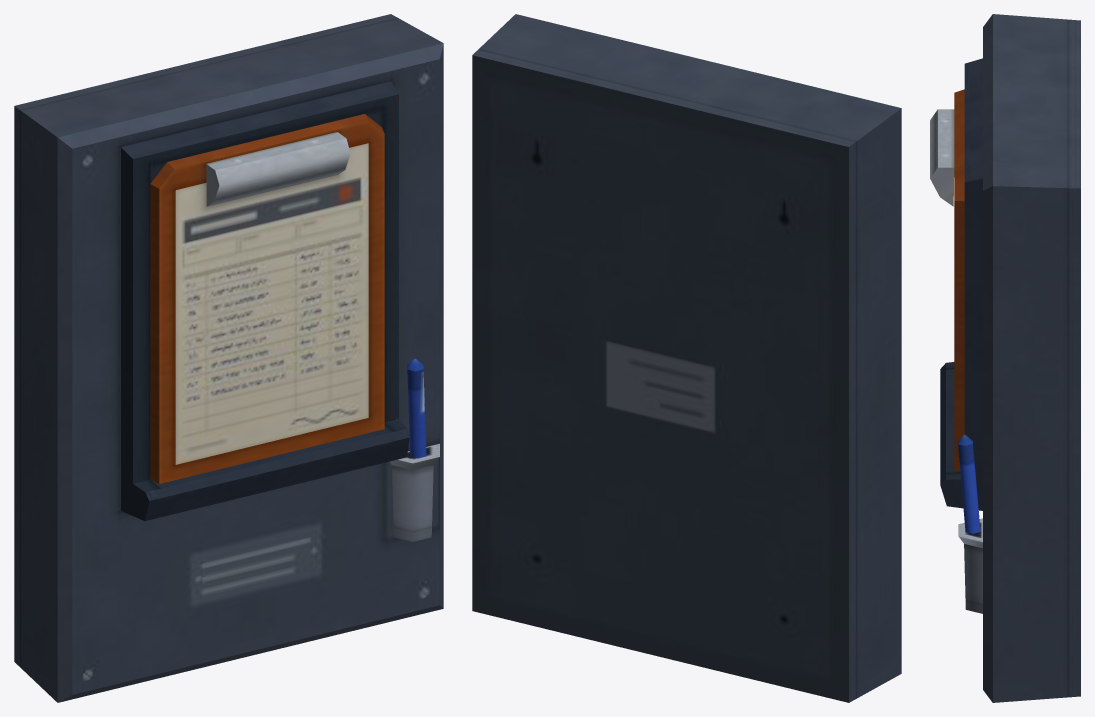
The model's file is yard-manifest-body.glb.
3 views of the same model, side by side, from view 1: azimuth 30°, elevation 25°; view 2: azimuth 150°, elevation 25°; view 3: azimuth 270°, elevation 25° (orthographic). The views are drawn at different scales.
Visible parts, largest first — view 1: Yard-manifest-bodyBody; view 2: Yard-manifest-bodyBody; view 3: Yard-manifest-bodyBody.
Part boxes in pixels (left/top/right/bottom): Yard-manifest-bodyBody: left=14, top=14, right=443, bottom=702; Yard-manifest-bodyBody: left=472, top=14, right=901, bottom=702; Yard-manifest-bodyBody: left=930, top=14, right=1080, bottom=702.
Bounding box in the file's own units: 0.5 × 0.7 × 0.185.
Materials: 1 (1 with a texture image).
